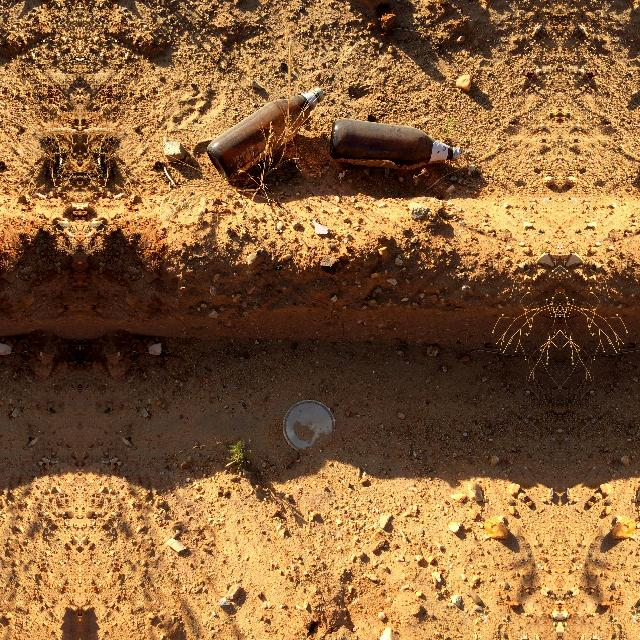Glass: (198, 80, 340, 188), (329, 113, 467, 183)
Plastic: (280, 392, 350, 466)
